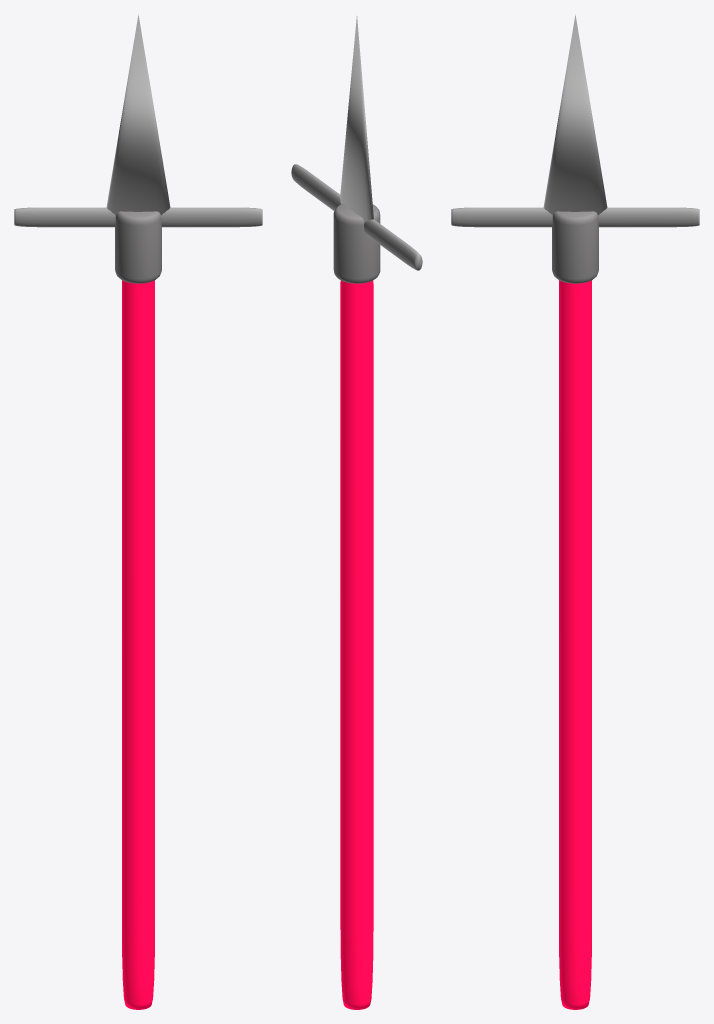
The model's file is Lance.fbx.
The picture shows the model from 3 angles, left to right: view 1: azimuth 90°, elevation 25°; view 2: azimuth 210°, elevation 25°; view 3: azimuth 270°, elevation 25°; orthographic projection.
Visible parts, largest first — view 1: Bou, Brade1, Brade2, Parts; view 2: Bou, Brade1, Parts, Brade2; view 3: Bou, Brade1, Brade2, Parts.
Part boxes in pixels (box(x1,y1,x2,y2)): Bou: box(122, 280, 154, 1009); Brade1: box(106, 14, 170, 215); Brade2: box(14, 207, 262, 227); Parts: box(115, 211, 161, 283); Bou: box(340, 280, 373, 1009); Brade1: box(340, 16, 373, 222); Parts: box(333, 203, 380, 283); Brade2: box(291, 164, 422, 270); Bou: box(559, 280, 591, 1009); Brade1: box(543, 14, 607, 215); Brade2: box(451, 207, 699, 227); Parts: box(552, 211, 598, 283).
Bounding box in the file's own units: 39.53 × 915 × 208.
